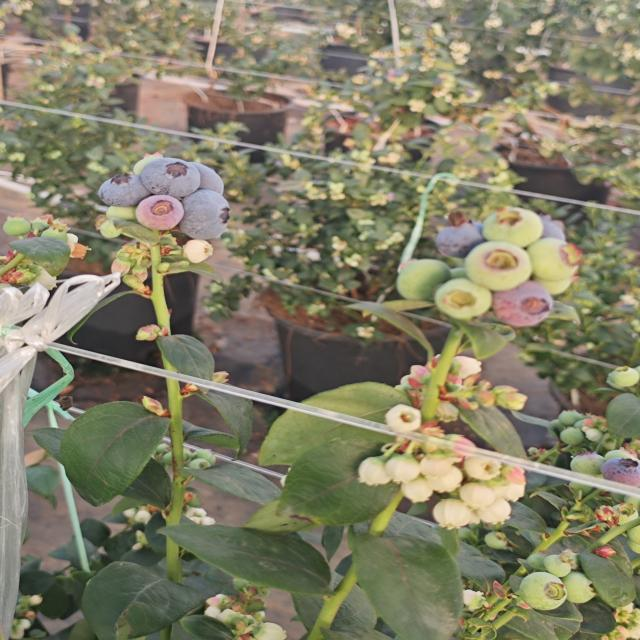ripe: (92, 155, 156, 213), (140, 151, 204, 200), (174, 192, 239, 237), (182, 150, 237, 200), (424, 216, 486, 253), (593, 452, 640, 492)
